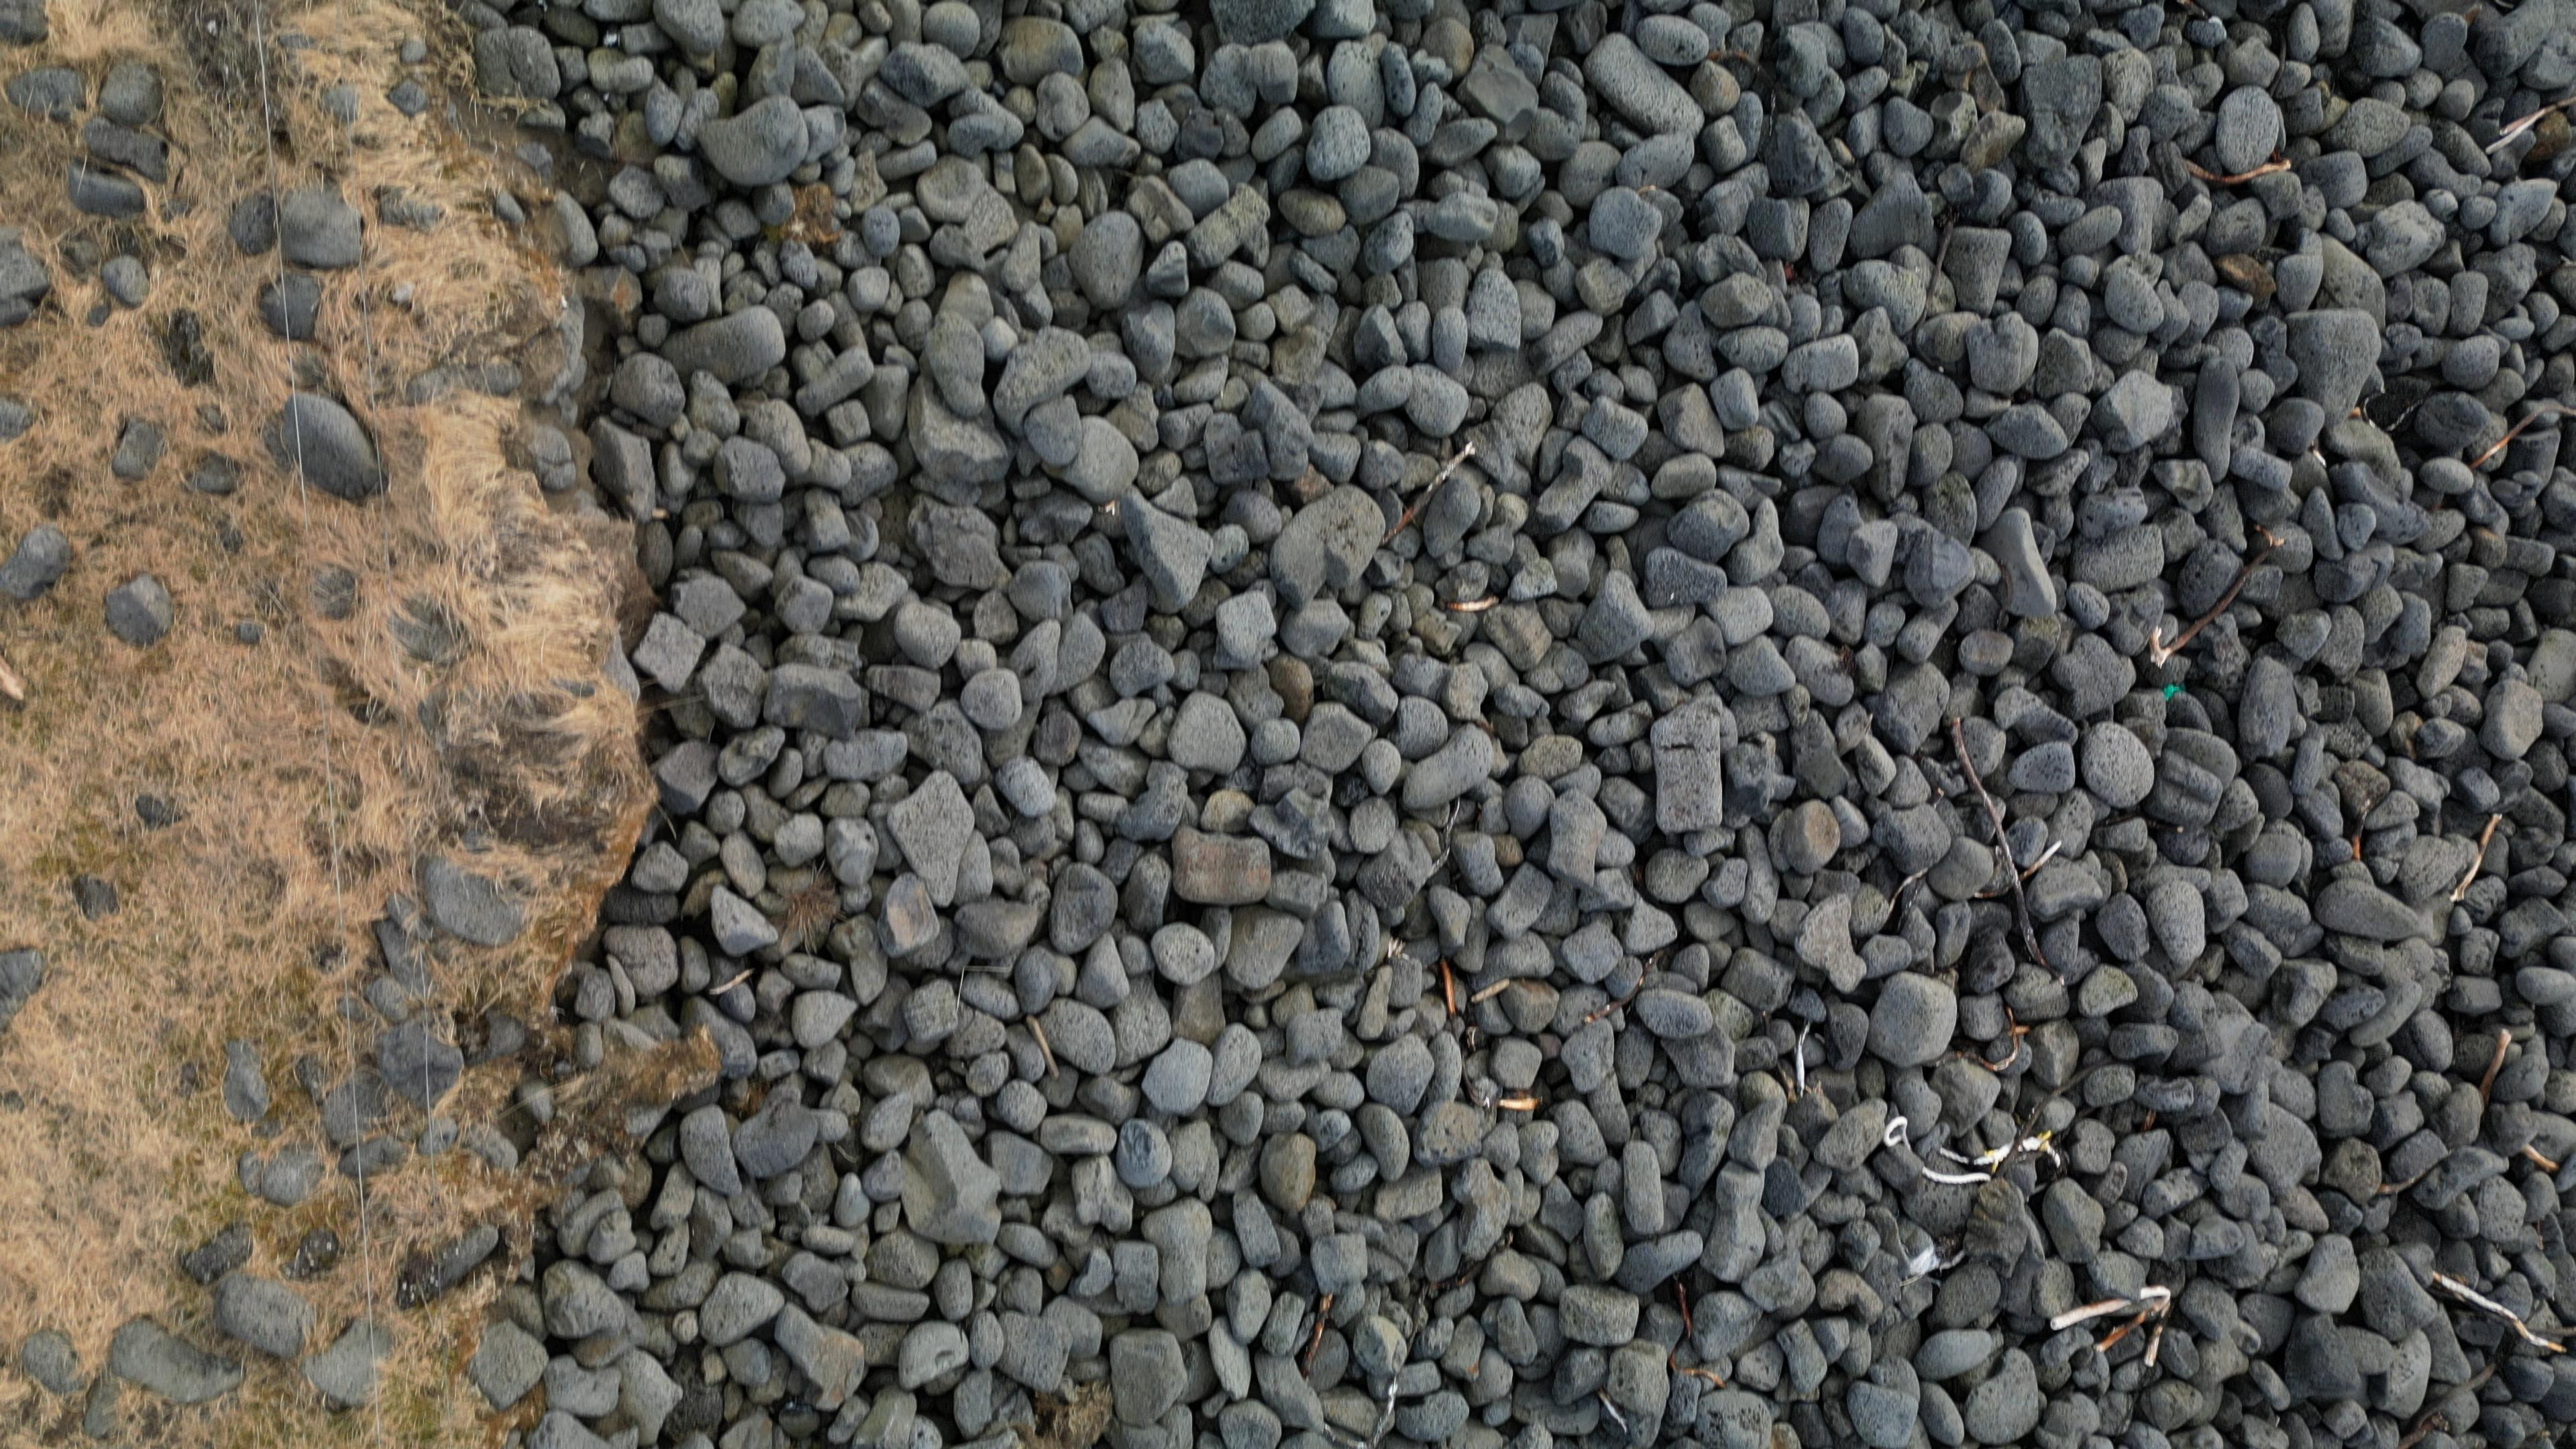trash: (1917, 1132, 2068, 1187), (1882, 1117, 1907, 1147)
